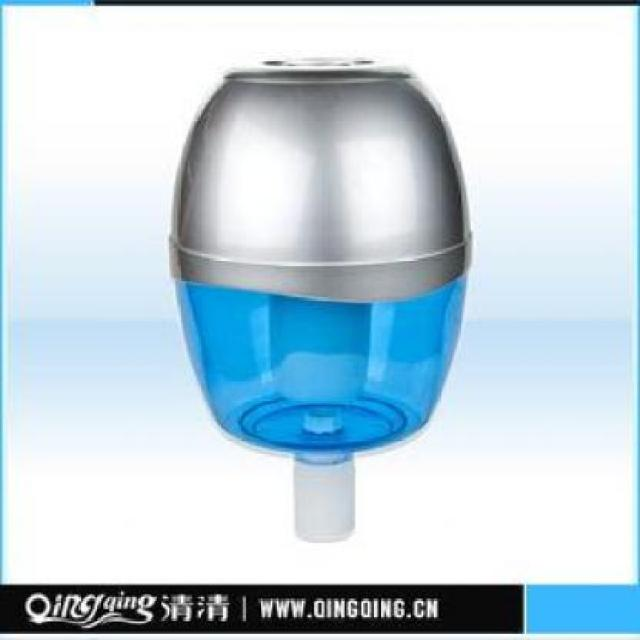coolerbottle: (163, 54, 479, 463)
